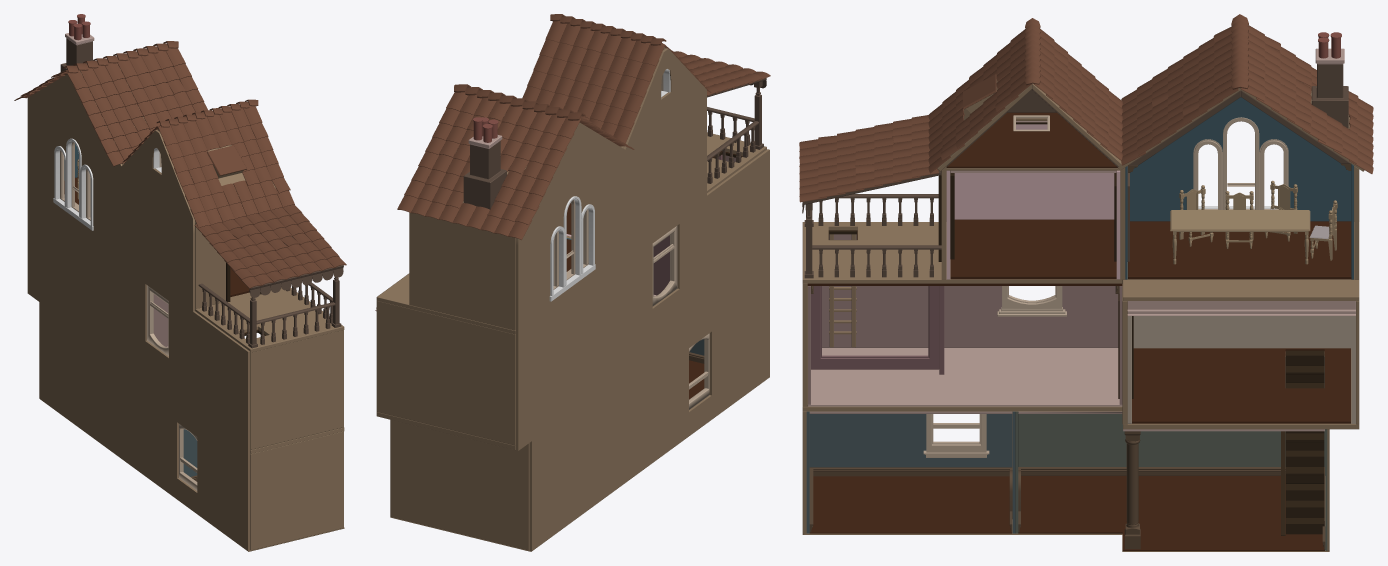
File: Dollhouse003(forJoe).fbx
3 renders of one model, left to right at view 1: azimuth 30°, elevation 25°; view 2: azimuth 150°, elevation 25°; view 3: azimuth 270°, elevation 25°, orthographic. The views are drawn at different scales.
Visible parts, largest first — view 1: back.001, walls.001, rooftilesleft.001, rooftilesright.001, balconytiles.001, balcony.001, backwindowright.001, recreation.001, chimney.001, entrance.003, dinningroom.001, roofwindow.001; view 2: back.001, walls.001, rooftilesright.001, rooftilesleft.001, chimney.001, backwindowright.001, balcony.001, balconytiles.001, recreation.001, dinningroom.001, entrance.003; view 3: walls.001, recreation.001, kitchen.003, rooftilesright.001, recreation.003, bathroom.003, kitchen.002, dinningroom.001, entrance.003, entrance.002, rooftilesleft.001, dinningroom.002 (+16 smaller).
Part boxes in pixels (x1,y1,x2,y2): back.001: (27, 74, 249, 551); walls.001: (80, 69, 344, 551); rooftilesleft.001: (122, 99, 294, 227); rooftilesright.001: (14, 41, 207, 166); balconytiles.001: (194, 204, 346, 288); balcony.001: (198, 236, 343, 348); backwindowright.001: (53, 138, 93, 230); recreation.001: (147, 285, 168, 356); chimney.001: (60, 14, 94, 71); entrance.003: (179, 424, 197, 490); dinningroom.001: (60, 141, 90, 220); roofwindow.001: (207, 145, 246, 178); back.001: (516, 48, 769, 551); walls.001: (376, 47, 766, 551); rooftilesright.001: (397, 84, 634, 239); rooftilesleft.001: (522, 14, 711, 143); chimney.001: (463, 117, 506, 209); backwindowright.001: (549, 196, 595, 301); balcony.001: (707, 78, 766, 183); balconytiles.001: (673, 51, 770, 95); recreation.001: (652, 154, 735, 306); dinningroom.001: (553, 199, 588, 289); entrance.003: (689, 333, 709, 409); walls.001: (802, 83, 1364, 551); recreation.001: (808, 234, 1122, 404); kitchen.003: (1018, 476, 1324, 550); rooftilesright.001: (1121, 14, 1373, 173); recreation.003: (807, 348, 1122, 406); bathroom.003: (1132, 348, 1350, 423); kitchen.002: (1009, 356, 1327, 550); dinningroom.001: (1125, 97, 1353, 279); entrance.003: (806, 411, 1015, 533); entrance.002: (809, 476, 1012, 533); rooftilesleft.001: (928, 18, 1122, 173); dinningroom.002: (1128, 221, 1351, 279).
Size of the model in its own units: 1422 by 3702 by 4118.
